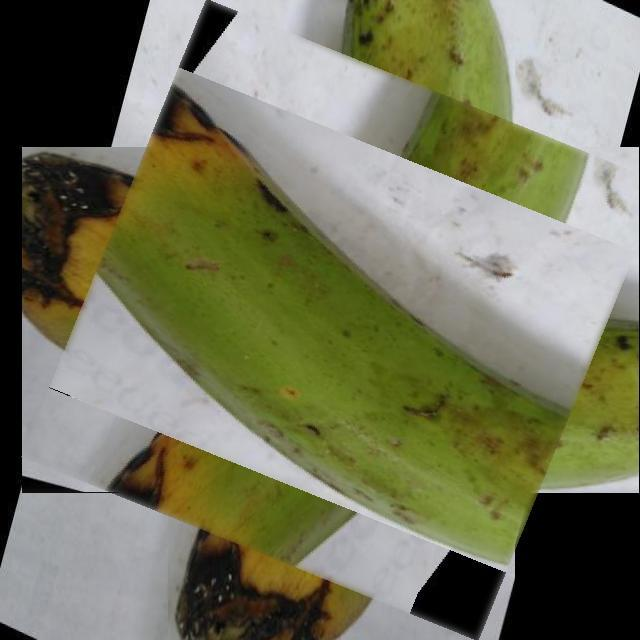Verde: (59, 36, 626, 604)
